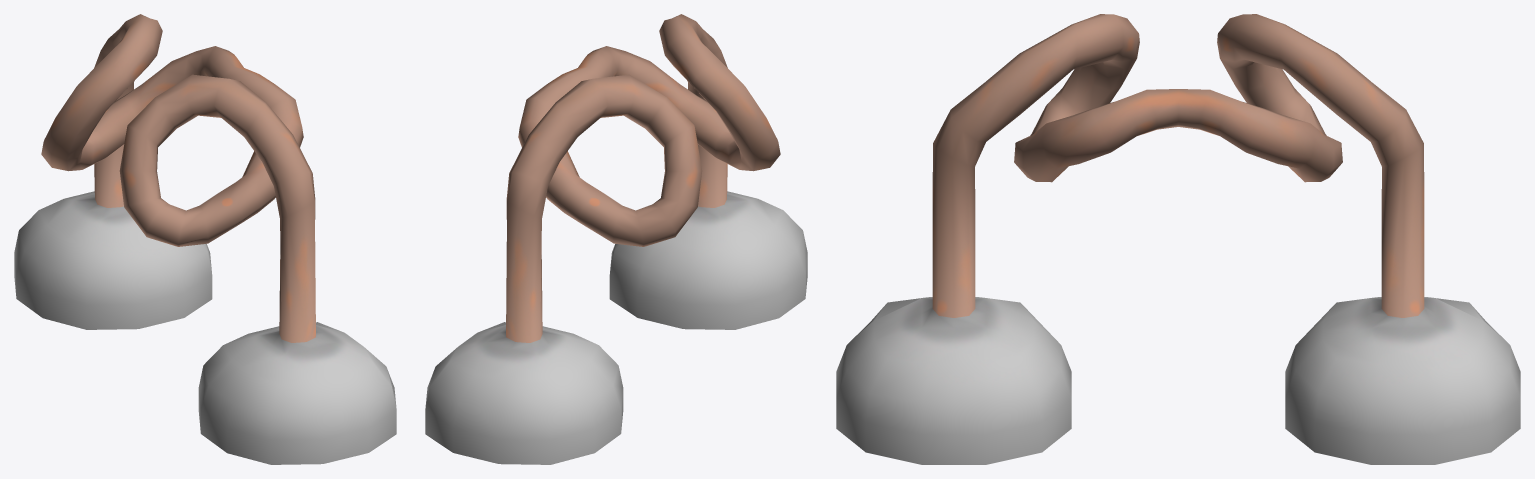
The model's file is mola final.fbx.
The picture shows the model from 3 angles, left to right: view 1: azimuth 30°, elevation 25°; view 2: azimuth 150°, elevation 25°; view 3: azimuth 270°, elevation 25°; orthographic projection. The views are drawn at different scales.
Parts seen in each view (by area): view 1: Cube; view 2: Cube; view 3: Cube.
Boxes of the visible parts, x1=… form: Cube: x1=14, y1=14, x2=396, y2=464; Cube: x1=425, y1=14, x2=807, y2=464; Cube: x1=836, y1=14, x2=1520, y2=464.
Size of the model in its own units: 387 by 570 by 931.
1 material, 1 textured.
